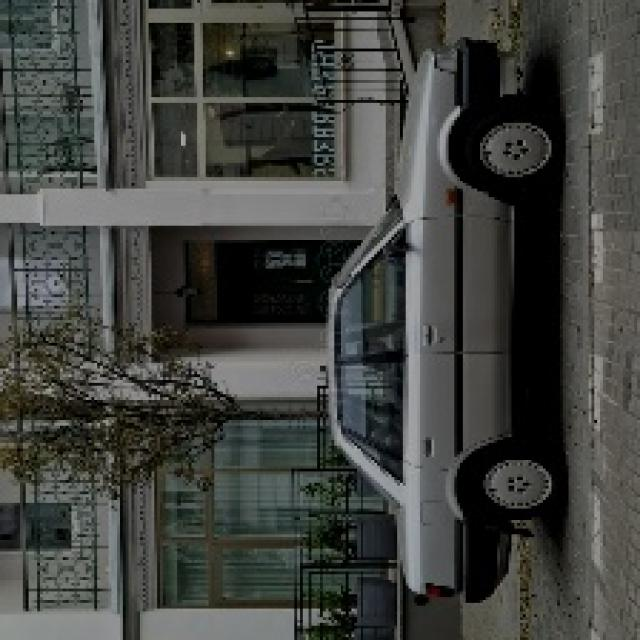car: (298, 53, 548, 607)
